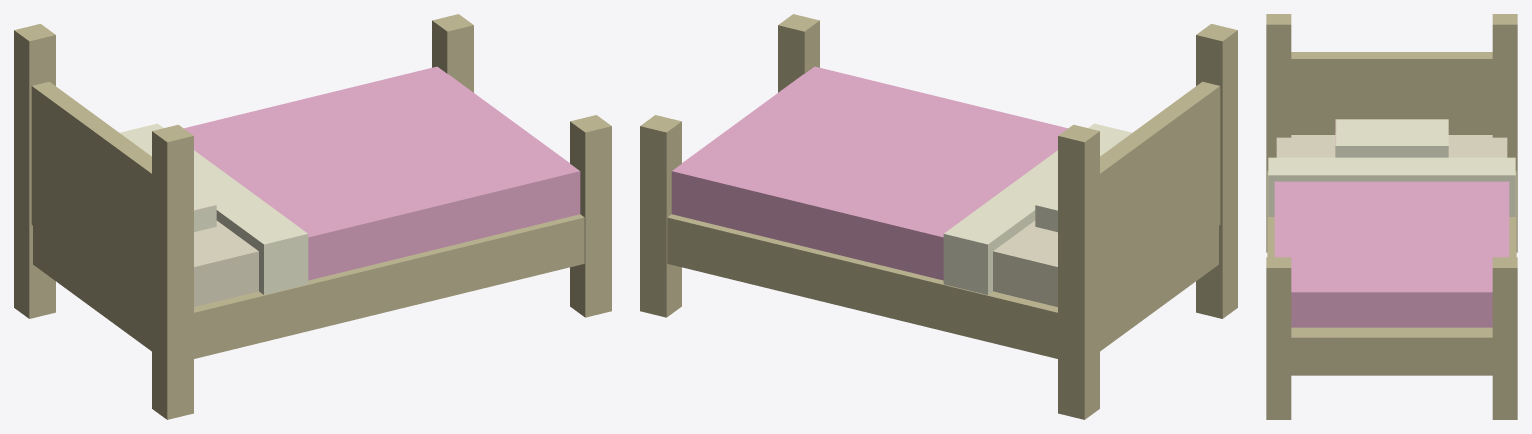
File: bed1_pink.glb
The picture shows the model from 3 angles, left to right: view 1: azimuth 30°, elevation 25°; view 2: azimuth 150°, elevation 25°; view 3: azimuth 270°, elevation 25°; orthographic projection. The views are drawn at different scales.
Visible parts, largest first — view 1: Object007; view 2: Object007; view 3: Object007.
Part boxes in pixels (box(x1,y1,x2,y2)): Object007: box(14, 14, 611, 419); Object007: box(640, 14, 1237, 419); Object007: box(1266, 14, 1517, 419).
Bounding box in the file's own units: 0.2011 × 0.12 × 0.12.
Materials: 1 (1 with a texture image).
